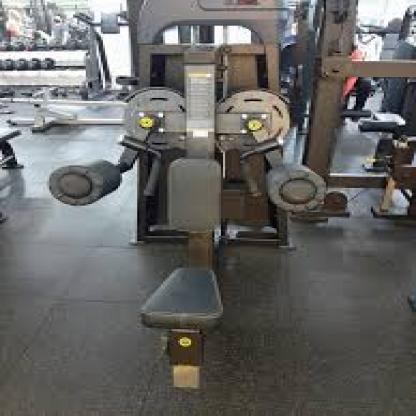lateral raises machine: (51, 87, 329, 391)
